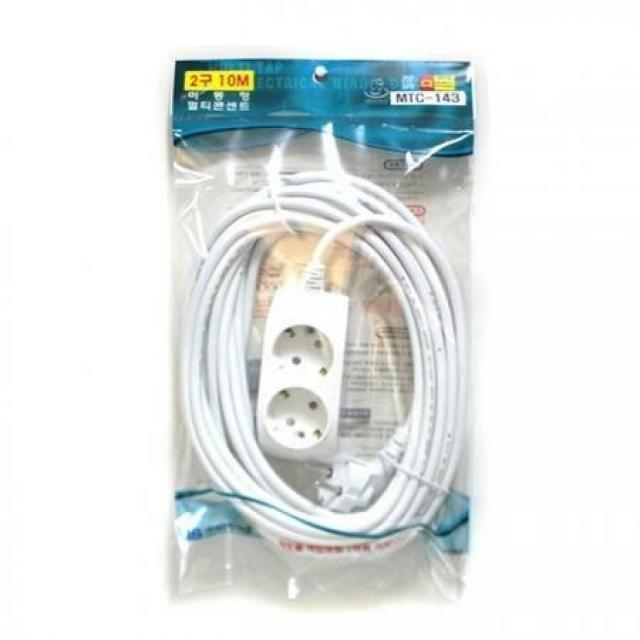typeb: (264, 272, 352, 468)
